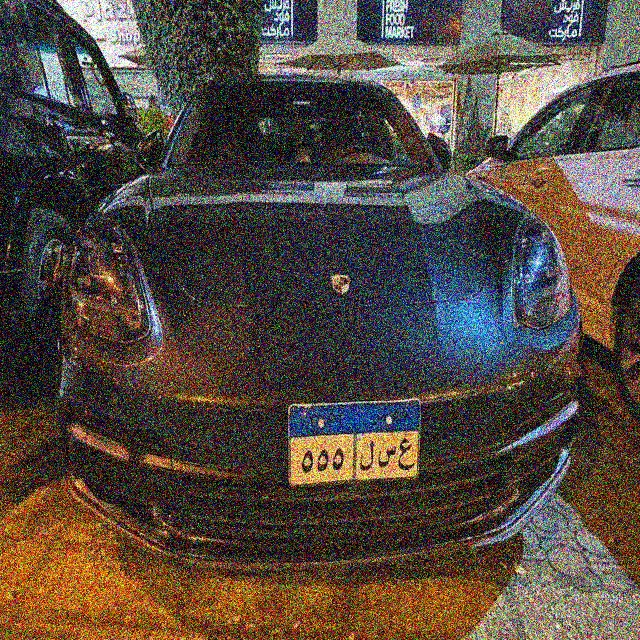License Plate: (286, 395, 423, 490)
